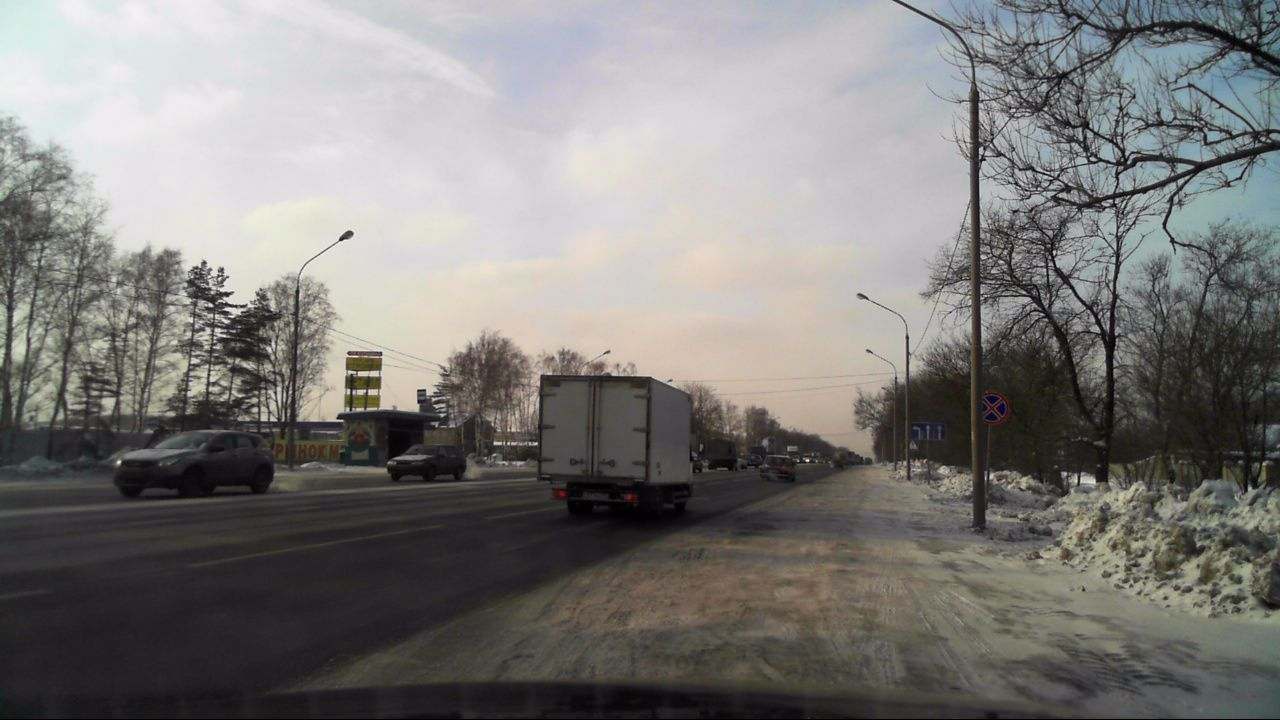No Parking: (977, 389, 1011, 425)
